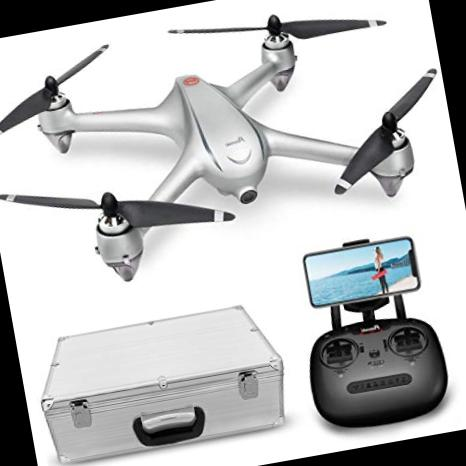drone: (0, 0, 454, 294)
